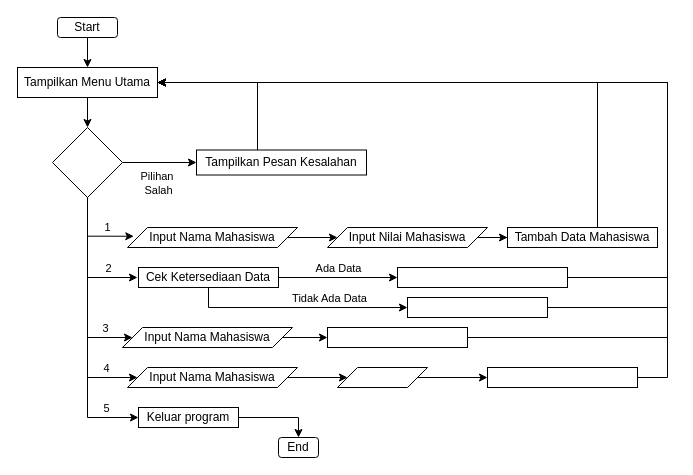
This 693x475 diagram has some shape labels left out. The shapes that lost their labels are listed below. From the top down, each one's centre as x and y in pixels, then its label:
the point at 87,162: Pilih Menu
the point at 482,277: Tampilkan Daftar mahasiswa
the point at 477,307: Tampilkan pesan Kosong
the point at 397,337: Hapus Data Mahasiswa
the point at 382,377: Input Nilai
the point at 562,377: Update Data Mahasiswa
